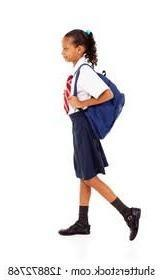Human: (51, 23, 148, 270)
